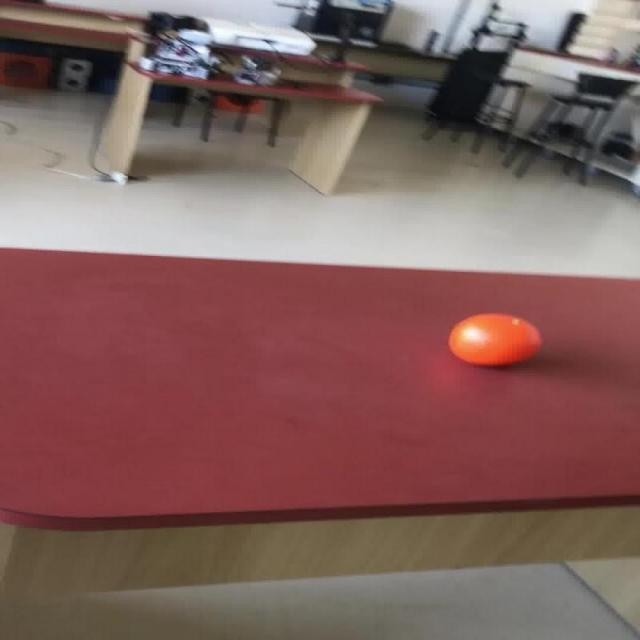Orange: (446, 312, 541, 367)
